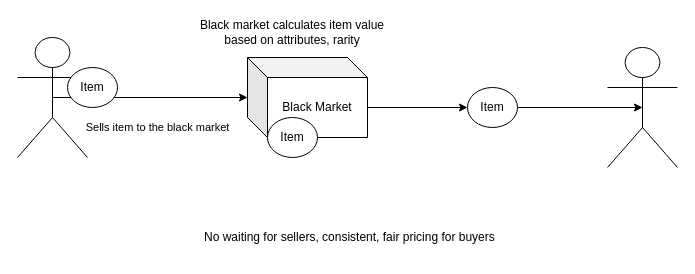
Image size: 695x274. Some labels were removed from this diagram. The centre of each missing label's shape, as x and y in pixels:
"Other User" goes at point (642, 107).
"User" goes at point (52, 97).
